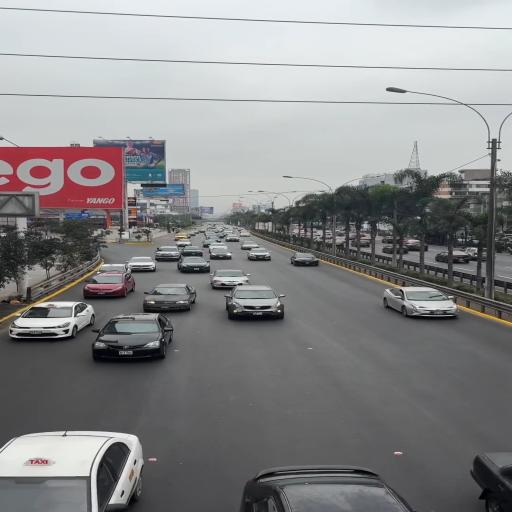auto: (0, 430, 144, 511), (237, 465, 424, 512), (90, 314, 176, 360), (8, 300, 94, 338), (382, 286, 460, 318), (223, 284, 286, 320), (142, 283, 199, 313), (82, 270, 137, 299), (208, 269, 250, 289), (176, 256, 212, 272), (434, 250, 475, 263), (125, 257, 157, 273), (154, 246, 182, 261), (96, 263, 130, 275), (290, 252, 319, 266), (247, 248, 272, 261), (179, 246, 204, 256), (208, 243, 230, 253), (239, 241, 260, 250), (174, 238, 193, 247)
